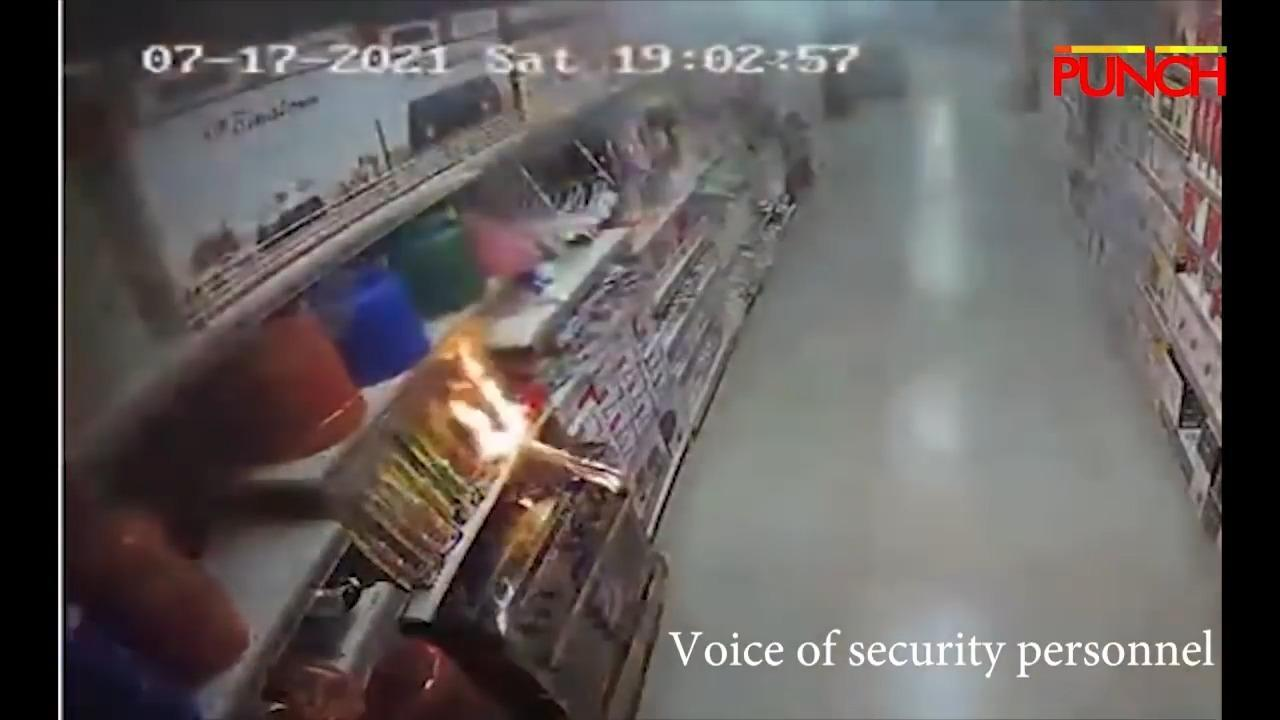fire: (451, 339, 529, 459)
